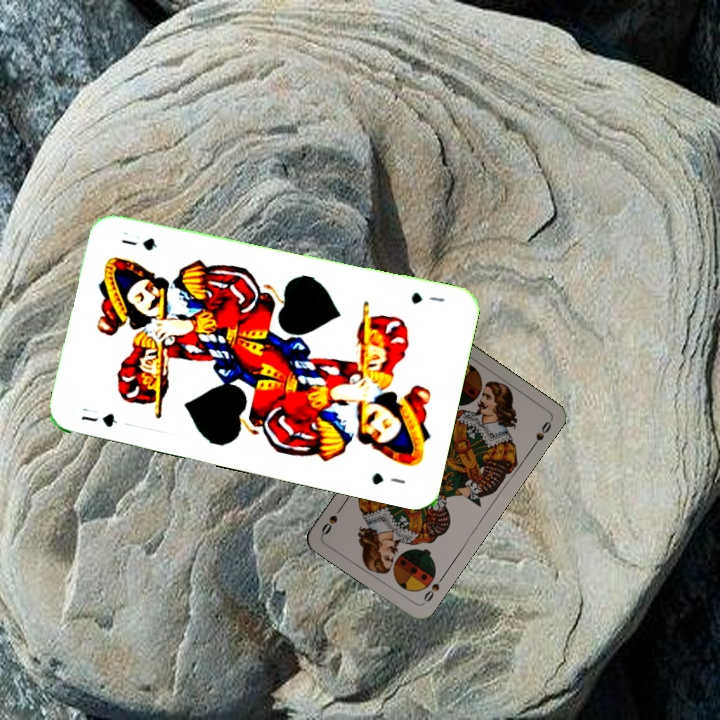GU: (77, 409, 120, 430), (407, 288, 447, 307)
SO: (418, 572, 447, 607)
